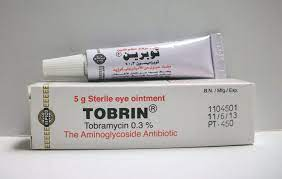Medicine: (15, 77, 256, 146), (40, 27, 232, 82)
